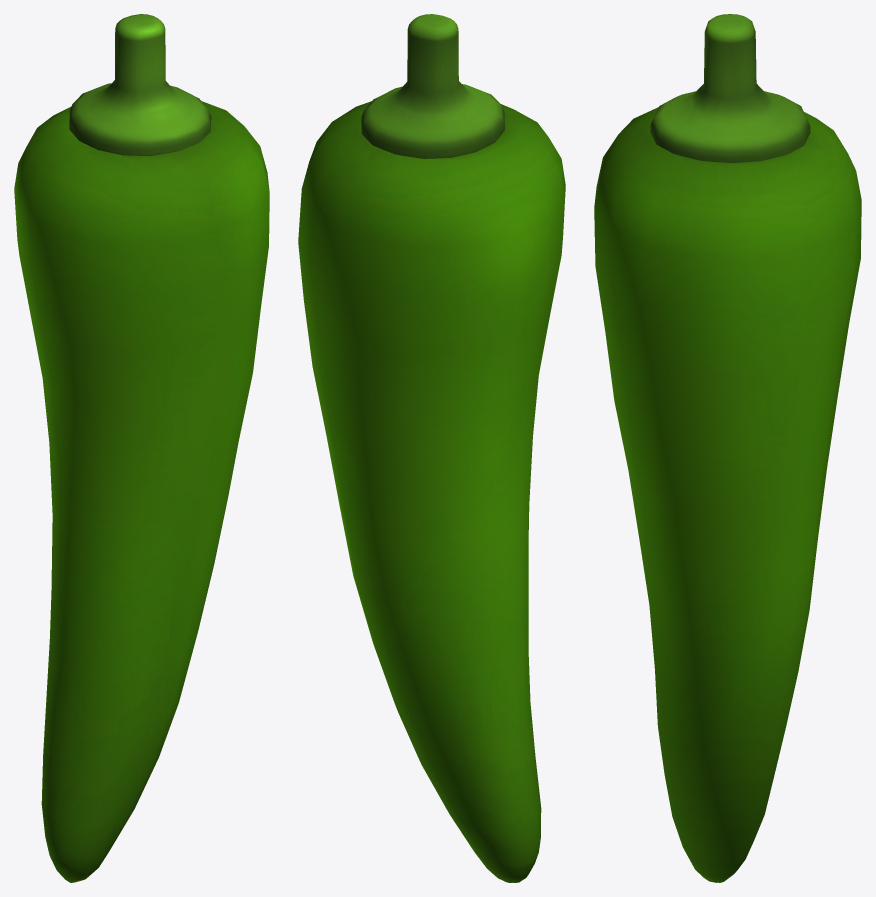
File: 0-pepper_green.fbx
3 views of the same model, side by side, from view 1: azimuth 30°, elevation 25°; view 2: azimuth 150°, elevation 25°; view 3: azimuth 270°, elevation 25° (orthographic). The views are drawn at different scales.
Parts seen in each view (by area): view 1: 0-pepper_green; view 2: 0-pepper_green; view 3: 0-pepper_green.
Boxes of the visible parts, left/top/right/bottom form: 0-pepper_green: left=14, top=14, right=269, bottom=882; 0-pepper_green: left=298, top=14, right=565, bottom=882; 0-pepper_green: left=594, top=14, right=861, bottom=882.
Size of the model in its own units: 26.68 by 93.07 by 25.14.
